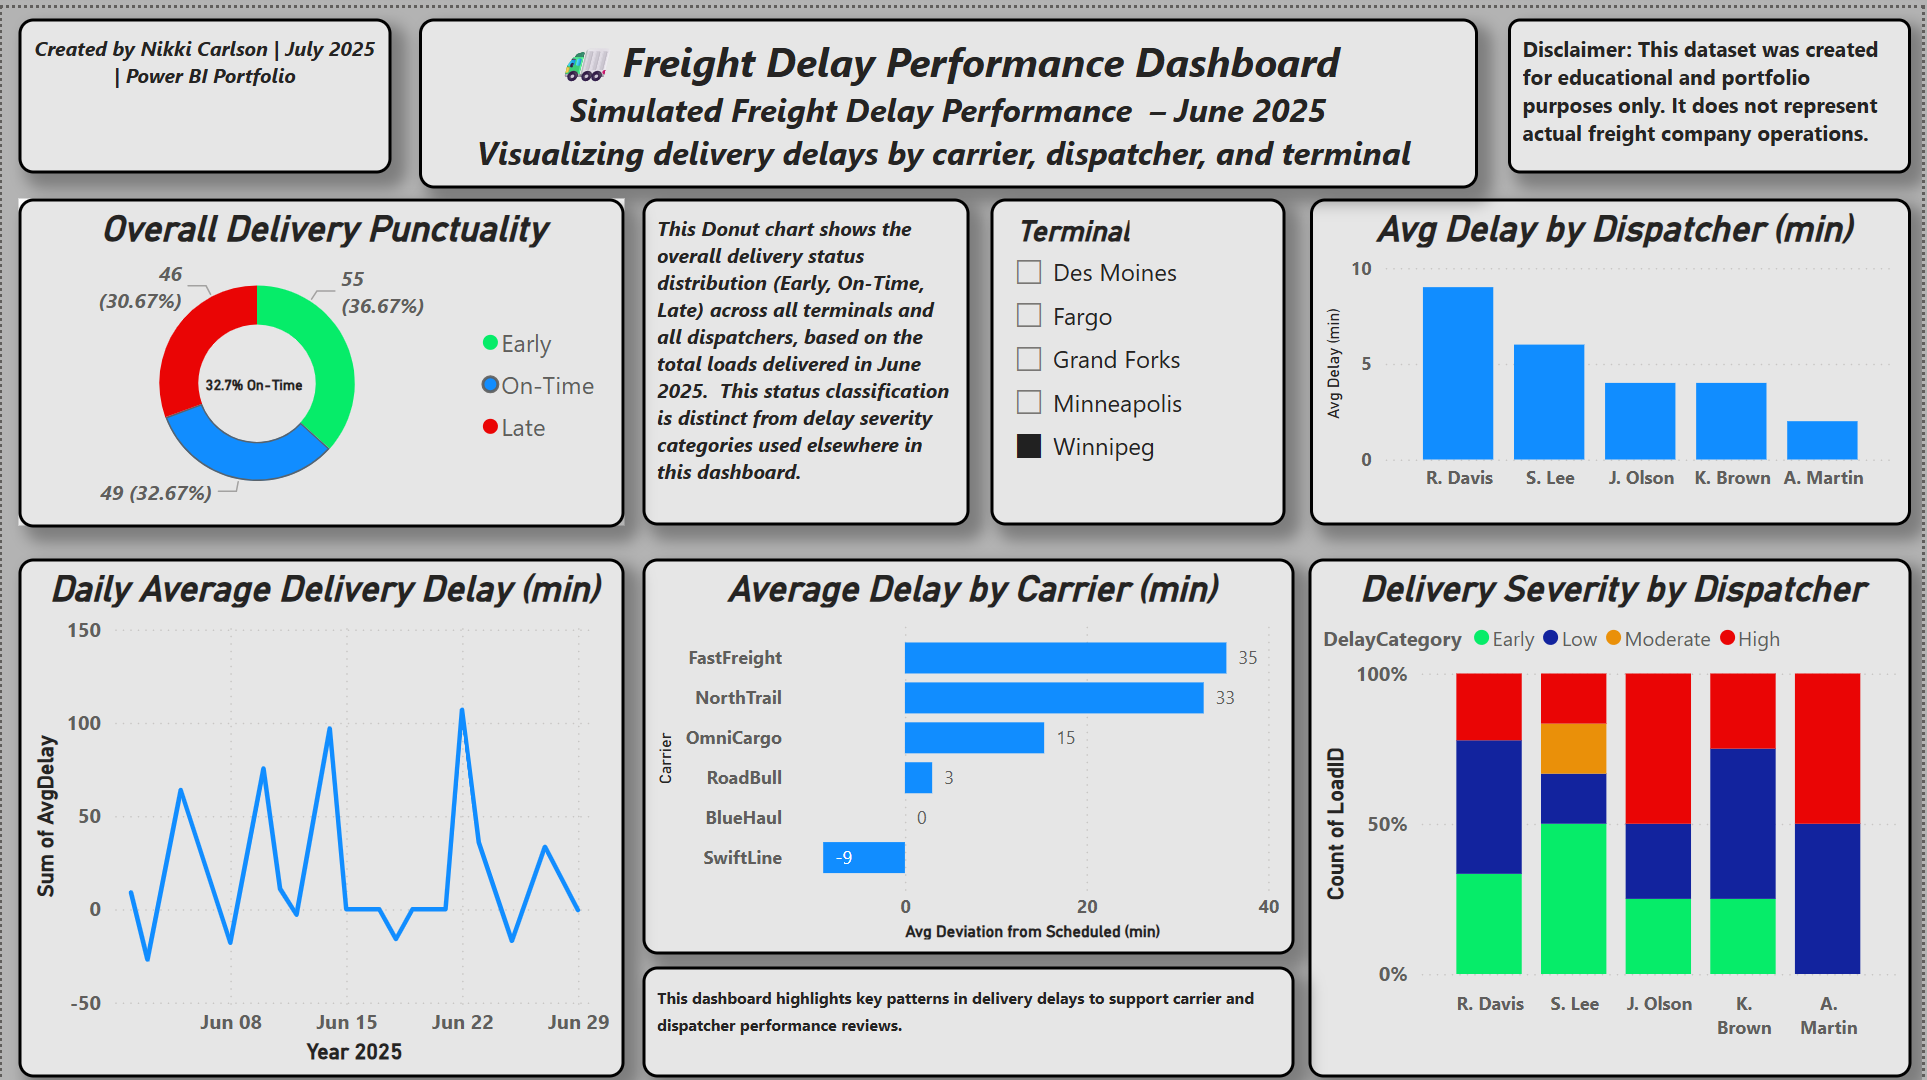

The dashboard page shown, as its layout file describes it:
{"tool":"powerbi","page":{"name":"Page 1","canvas":[1280,720],"ordinal":0},"visuals":[{"type":"clusteredBarChart","title":"Average Delay by Carrier (min)","fields":{"Y":["Sum(carrier_delay_summary_dax.AvgDelay)"],"Category":["carrier_delay_summary_dax.Carrier"]},"box":[427.1,366.7,434.6,264.4],"z":0},{"type":"clusteredColumnChart","title":"Avg Delay by Dispatcher (min)","fields":{"Category":["dispatcher_delay_summary_dax.Dispatcher"],"Y":["Sum(dispatcher_delay_summary_dax.TotalLoads)"]},"box":[871.7,126.6,401.6,218.9],"z":1000},{"type":"lineChart","title":"Daily Average Delivery Delay (min)","fields":{"Category":["daily_delay_trend_dax.DeliveryDate.Variation.Date Hierarchy.Year","daily_delay_trend_dax.DeliveryDate.Variation.Date Hierarchy.Quarter","daily_delay_trend_dax.DeliveryDate.Variation.Date Hierarchy.Month","daily_delay_trend_dax.DeliveryDate.Variation.Date Hierarchy.Day"],"Y":["Sum(daily_delay_trend_dax.AvgDelay)"]},"box":[10.6,366.7,404.1,346.1],"z":2000},{"type":"textbox","box":[278.1,6.9,705.9,112.9],"z":3000},{"type":"hundredPercentStackedColumnChart","title":"Delivery Severity by Dispatcher","fields":{"Category":["freight_delay_data.Dispatcher"],"Y":["CountNonNull(freight_delay_data.LoadID)"],"Series":["DelayCategoryLookup.DelayCategory"]},"box":[871.1,366.7,402.2,346.1],"z":4000},{"type":"textbox","box":[427.1,126.6,217.6,218.9],"z":5000},{"type":"textbox","box":[1003.9,6.9,269.4,102.9],"z":6000},{"type":"slicer","fields":{"Values":["TerminalTable.Terminal"]},"box":[659.1,126.6,197,218.9],"z":7000},{"type":"donutChart","title":"Overall Delivery Punctuality","fields":{"Category":["on_time_breakdown.Status"],"Y":["Sum(on_time_breakdown.TotalLoads)"]},"box":[10.6,126.6,404.1,218.9],"z":7500,"group":"g1"},{"type":"cardVisual","fields":{"Data":["on_time_breakdown.OnTimeLabel"]},"box":[95,215.4,146.5,61.7],"z":7750,"group":"g1"},{"type":"textbox","box":[10.6,6.9,249.4,102.9],"z":8000},{"type":"group","id":"g1","title":"Group 1","box":[10.6,126.6,404.1,218.9],"z":9000},{"type":"textbox","box":[427.1,638.5,434.6,74.2],"z":10000}]}

Visuals, with their boxes in screenshot pixels (x1, y1, x2, y2), scaled from the page's 1280x720 canvas onto the 1927x1080 screenshot:
"Average Delay by Carrier (min)" clusteredBarChart: select_region(643, 550, 1297, 947)
"Avg Delay by Dispatcher (min)" clusteredColumnChart: select_region(1312, 190, 1917, 518)
"Daily Average Delivery Delay (min)" lineChart: select_region(16, 550, 624, 1069)
textbox: select_region(419, 10, 1481, 180)
"Delivery Severity by Dispatcher" hundredPercentStackedColumnChart: select_region(1311, 550, 1917, 1069)
textbox: select_region(643, 190, 971, 518)
textbox: select_region(1511, 10, 1917, 165)
slicer - TerminalTable.Terminal: select_region(992, 190, 1289, 518)
"Overall Delivery Punctuality" donutChart: select_region(16, 190, 624, 518)
cardVisual - on_time_breakdown.OnTimeLabel: select_region(143, 323, 364, 416)
textbox: select_region(16, 10, 391, 165)
"Group 1" group: select_region(16, 190, 624, 518)
textbox: select_region(643, 958, 1297, 1069)
